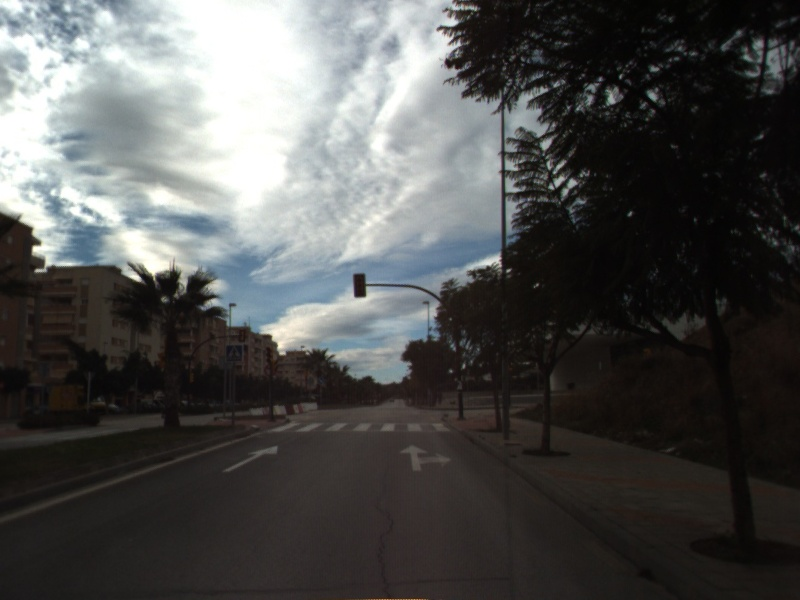STRAIGHT: (221, 444, 280, 474)
STRAIGHT_RIGHT: (398, 442, 454, 473)
